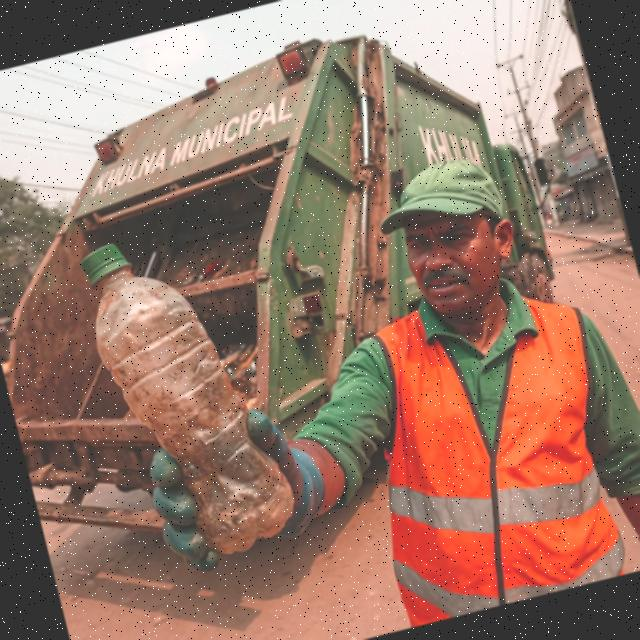plastic: (73, 214, 304, 570)
